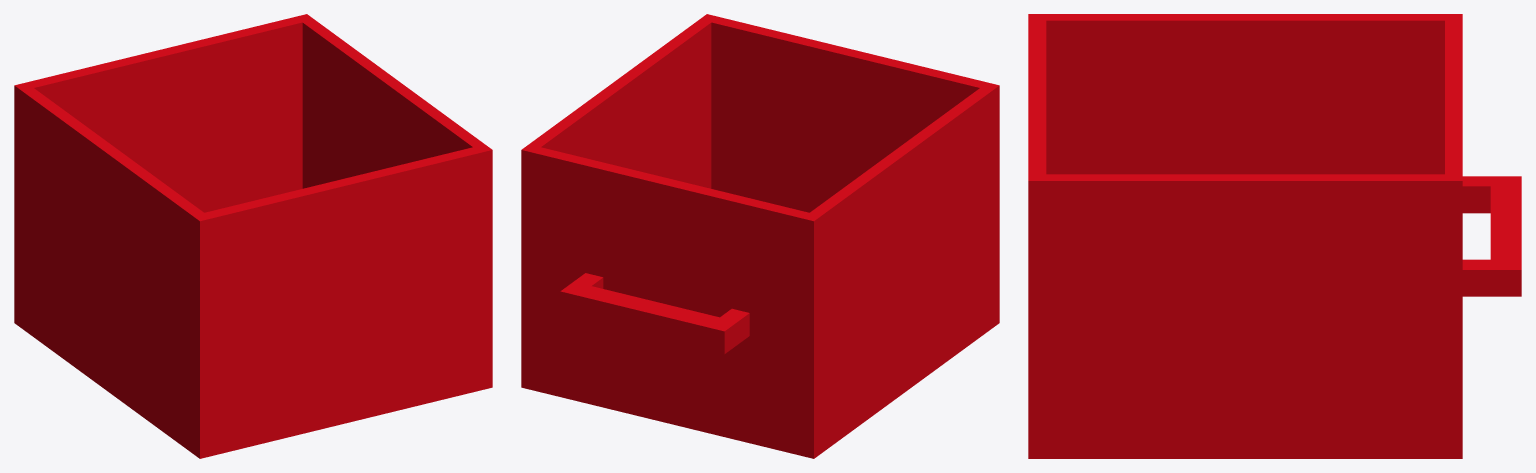
Rendered from Big Drawer.fbx.
3 renders of one model, left to right at view 1: azimuth 30°, elevation 25°; view 2: azimuth 150°, elevation 25°; view 3: azimuth 270°, elevation 25°, orthographic. The views are drawn at different scales.
Visible parts, largest first — view 1: Desk.003; view 2: Desk.003; view 3: Desk.003.
Part boxes in pixels (x1,y1,x2,y2): Desk.003: (14, 14, 492, 458); Desk.003: (521, 14, 999, 458); Desk.003: (1028, 14, 1521, 458).
Size of the model in its own units: 42.82 by 33.23 by 53.43.
